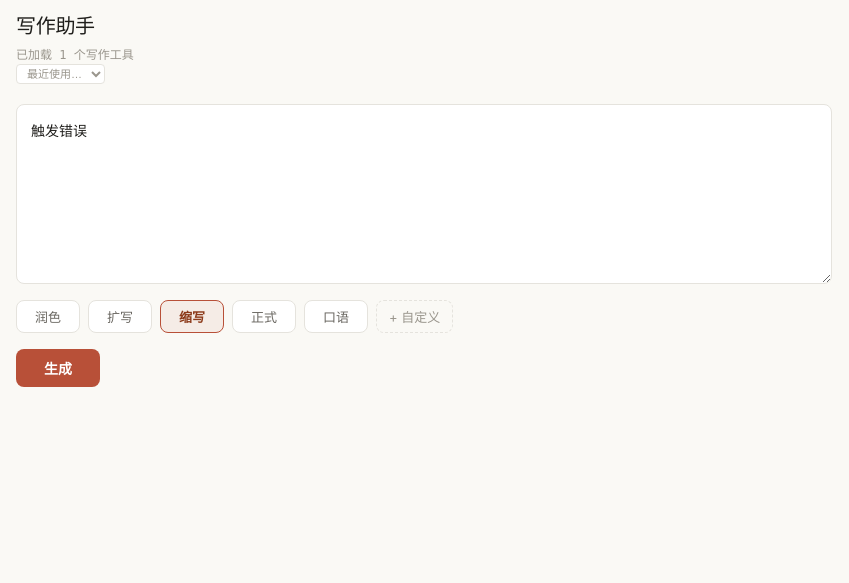
Test: <CastWritingPage /> › shows copy button only when result exists
Expected: the text "复制" is not shown
Replace the text in the text box with placeholder "输入需要处理的内容…" with "生成结果". click: (424, 194)
box: [16,104,832,284]
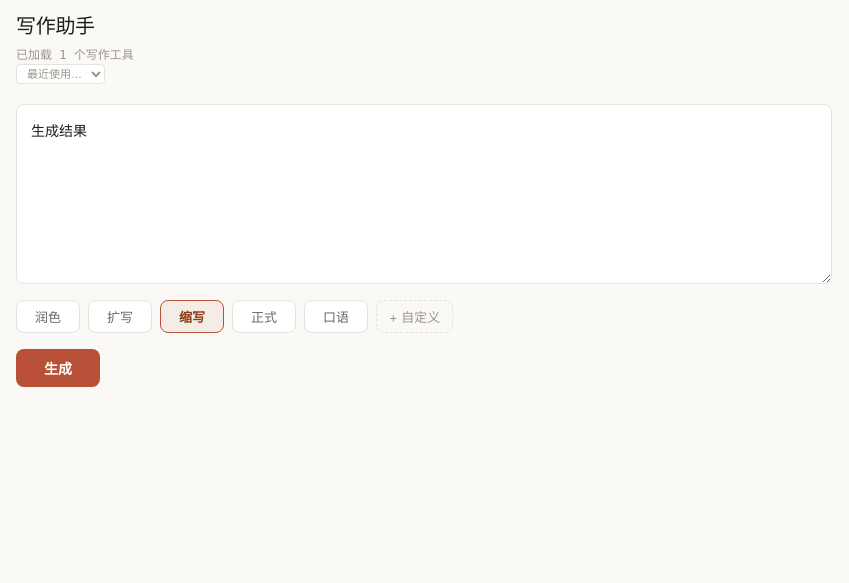
Click the button "生成". click: click(58, 368)
box: [16,349,100,387]
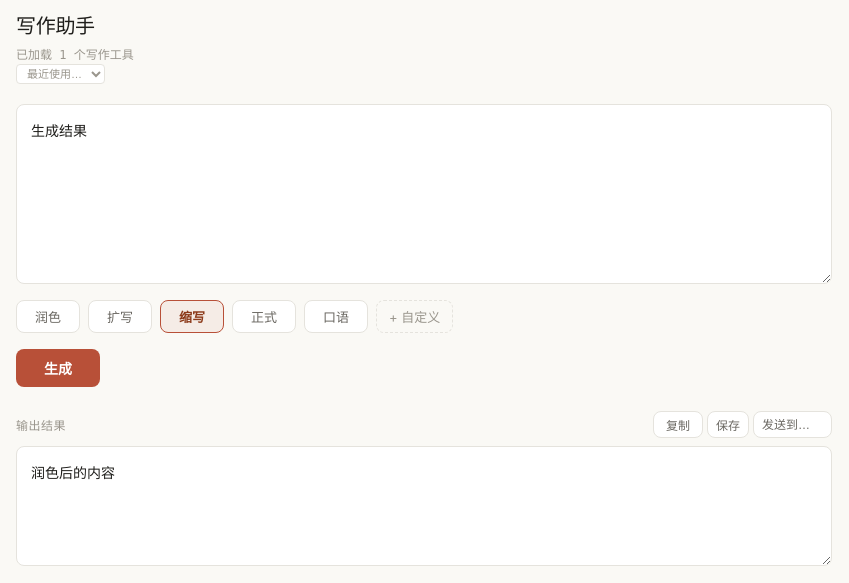
Expected: the button "复制" is shown, [653,411,703,438]
